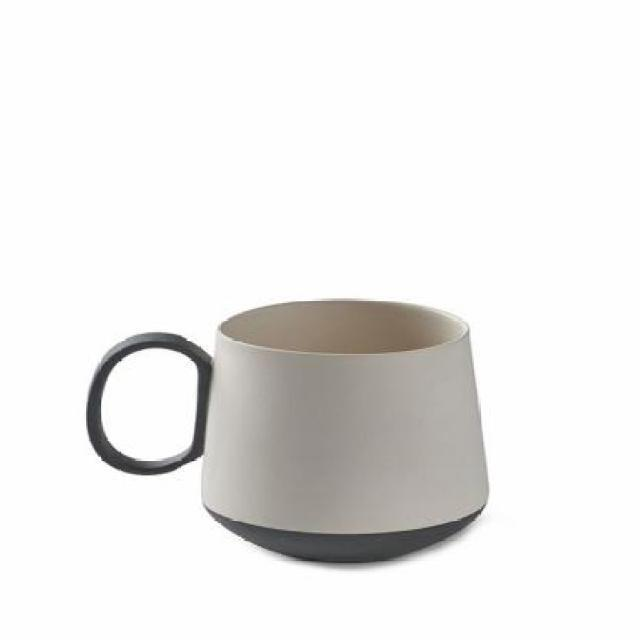taza: (164, 208, 416, 432)
